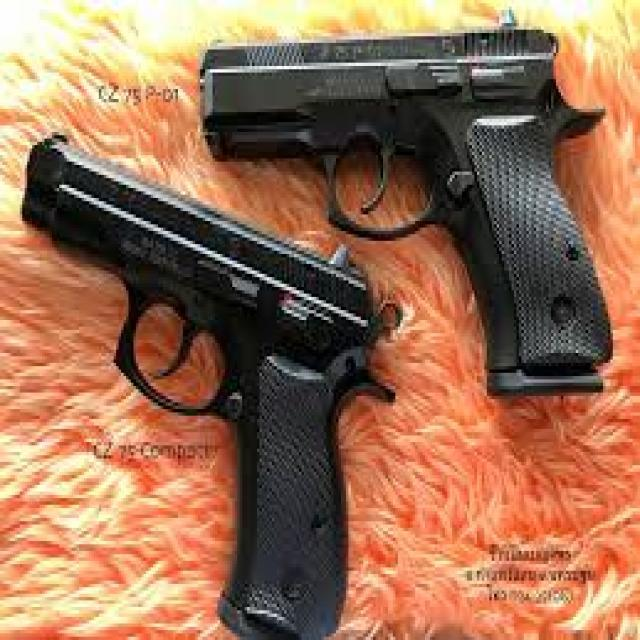semi automatic: (15, 3, 618, 640)
